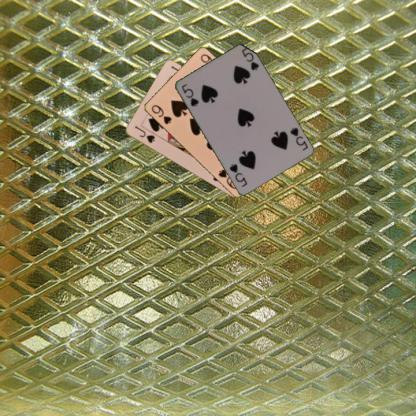5s: (178, 81, 200, 108), (287, 125, 309, 152)
9s: (148, 102, 173, 126)
Js: (132, 123, 156, 145)
